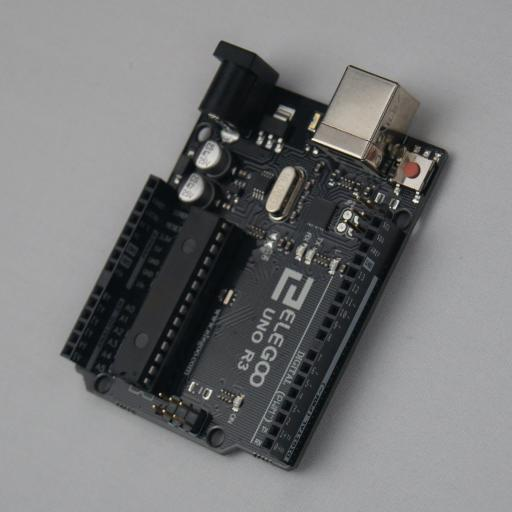NODEMCU_ESP8266: (60, 40, 452, 472)
